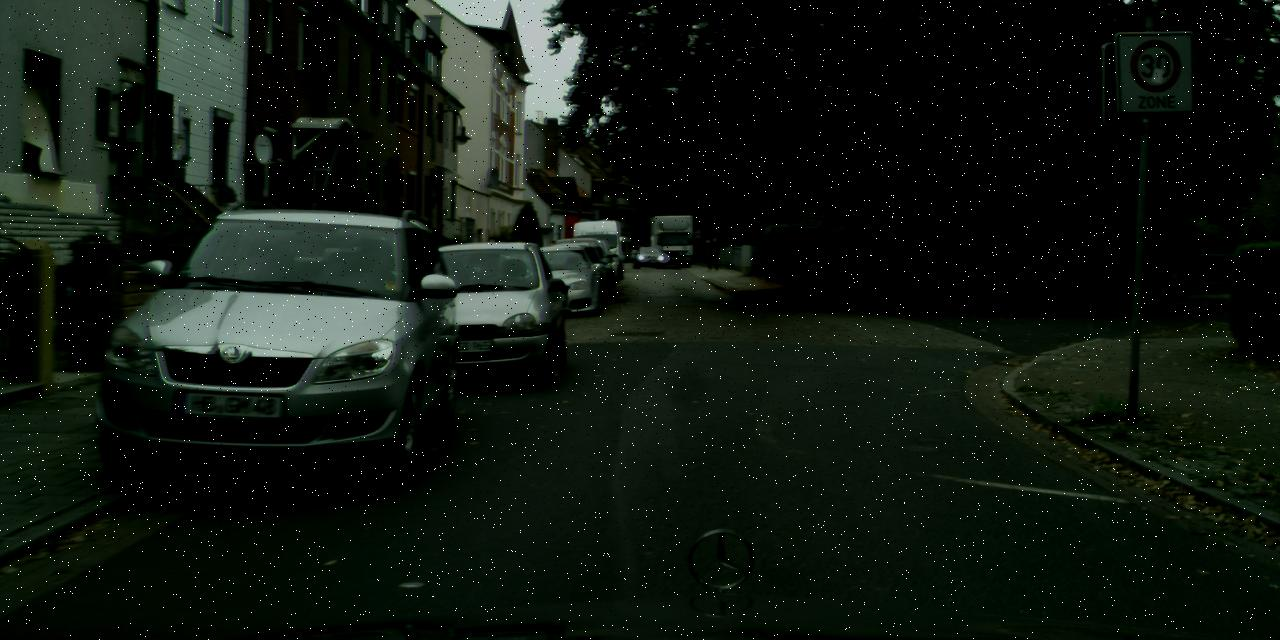ped: (707, 237, 719, 269)
